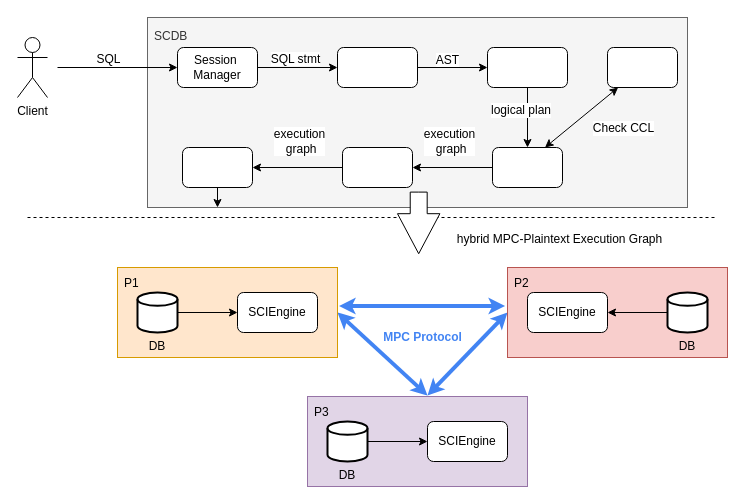
This 745x504 diagram has some shape labels left out. Here are the shapes that lost their labels. From the top down, the centre of each, then its label:
At pixel 377 67: "Parser".
At pixel 527 67: "Planner".
At pixel 642 67: "CCL Manager".
At pixel 217 167: "Graph Spliter".
At pixel 377 167: "Graph Optimizer".
At pixel 527 167: "Translator".
